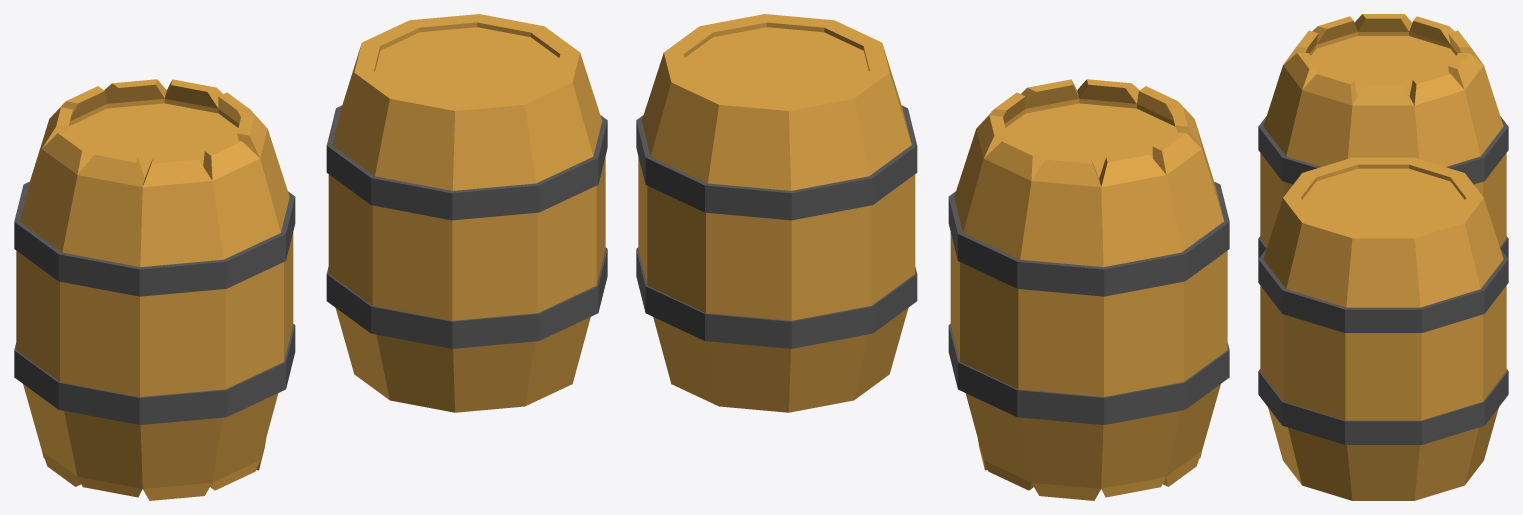
File: Barril.fbx
3 views of the same model, side by side, from view 1: azimuth 30°, elevation 25°; view 2: azimuth 150°, elevation 25°; view 3: azimuth 270°, elevation 25° (orthographic). The views are drawn at different scales.
Visible parts, largest first — view 1: barril, barril otimizado; view 2: barril, barril otimizado; view 3: barril otimizado, barril.
Boxes of the visible parts, x1=… form: barril: x1=14, y1=79, x2=295, y2=500; barril otimizado: x1=326, y1=14, x2=607, y2=412; barril: x1=948, y1=79, x2=1229, y2=500; barril otimizado: x1=636, y1=14, x2=917, y2=412; barril otimizado: x1=1258, y1=157, x2=1508, y2=500; barril: x1=1258, y1=14, x2=1508, y2=258.
Bounding box in the file's own units: 494 × 286 × 224.
